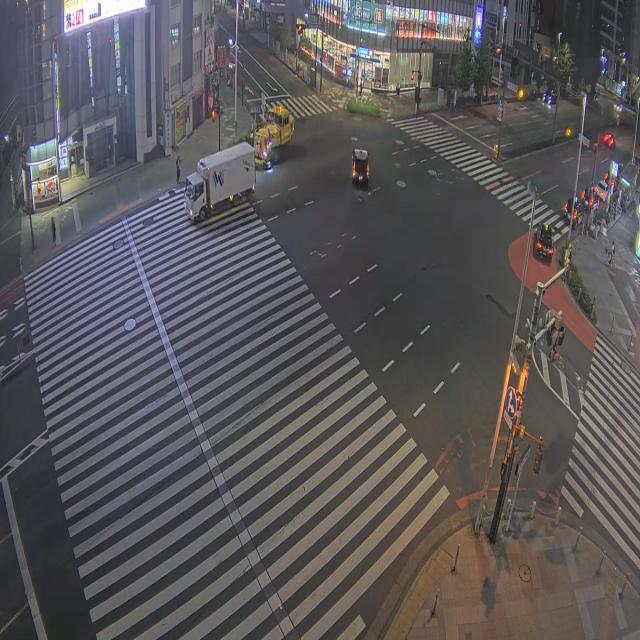car: (534, 224, 553, 261), (351, 150, 368, 188), (594, 180, 607, 201), (597, 132, 614, 148), (543, 88, 556, 105)
truck: (184, 143, 254, 220)
